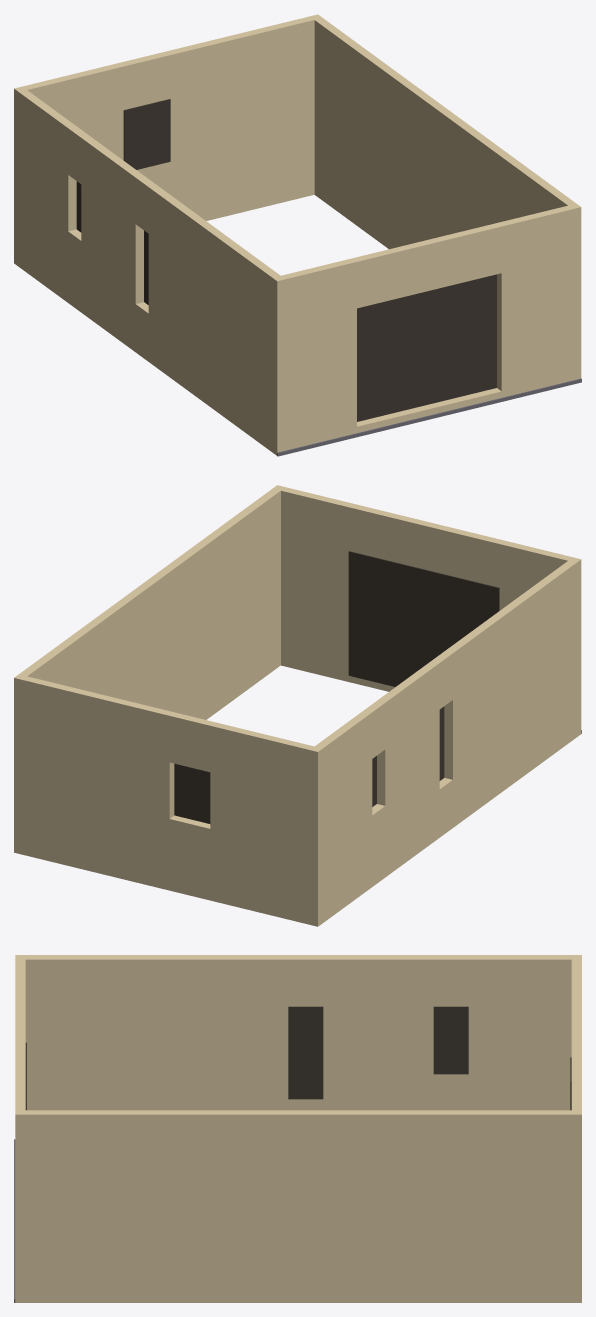
Rendered from SM_Floor_NarrowUpperBalconyEndL_Yellow_546_Back_01.gltf.
3 views of the same model, one above another, from view 1: azimuth 30°, elevation 25°; view 2: azimuth 150°, elevation 25°; view 3: azimuth 270°, elevation 25° (orthographic). The views are drawn at different scales.
Visible parts, largest first — view 1: SM_Floor_NarrowUpperBalconyEndL_Yellow_546_Back_01; view 2: SM_Floor_NarrowUpperBalconyEndL_Yellow_546_Back_01; view 3: SM_Floor_NarrowUpperBalconyEndL_Yellow_546_Back_01.
Part boxes in pixels (x1=…): SM_Floor_NarrowUpperBalconyEndL_Yellow_546_Back_01: x1=14, y1=14, x2=581, y2=456; SM_Floor_NarrowUpperBalconyEndL_Yellow_546_Back_01: x1=14, y1=485, x2=581, y2=926; SM_Floor_NarrowUpperBalconyEndL_Yellow_546_Back_01: x1=14, y1=955, x2=581, y2=1302.
Size of the model in its own units: 5.46 by 3 by 8.21.
1 material, 1 textured.
